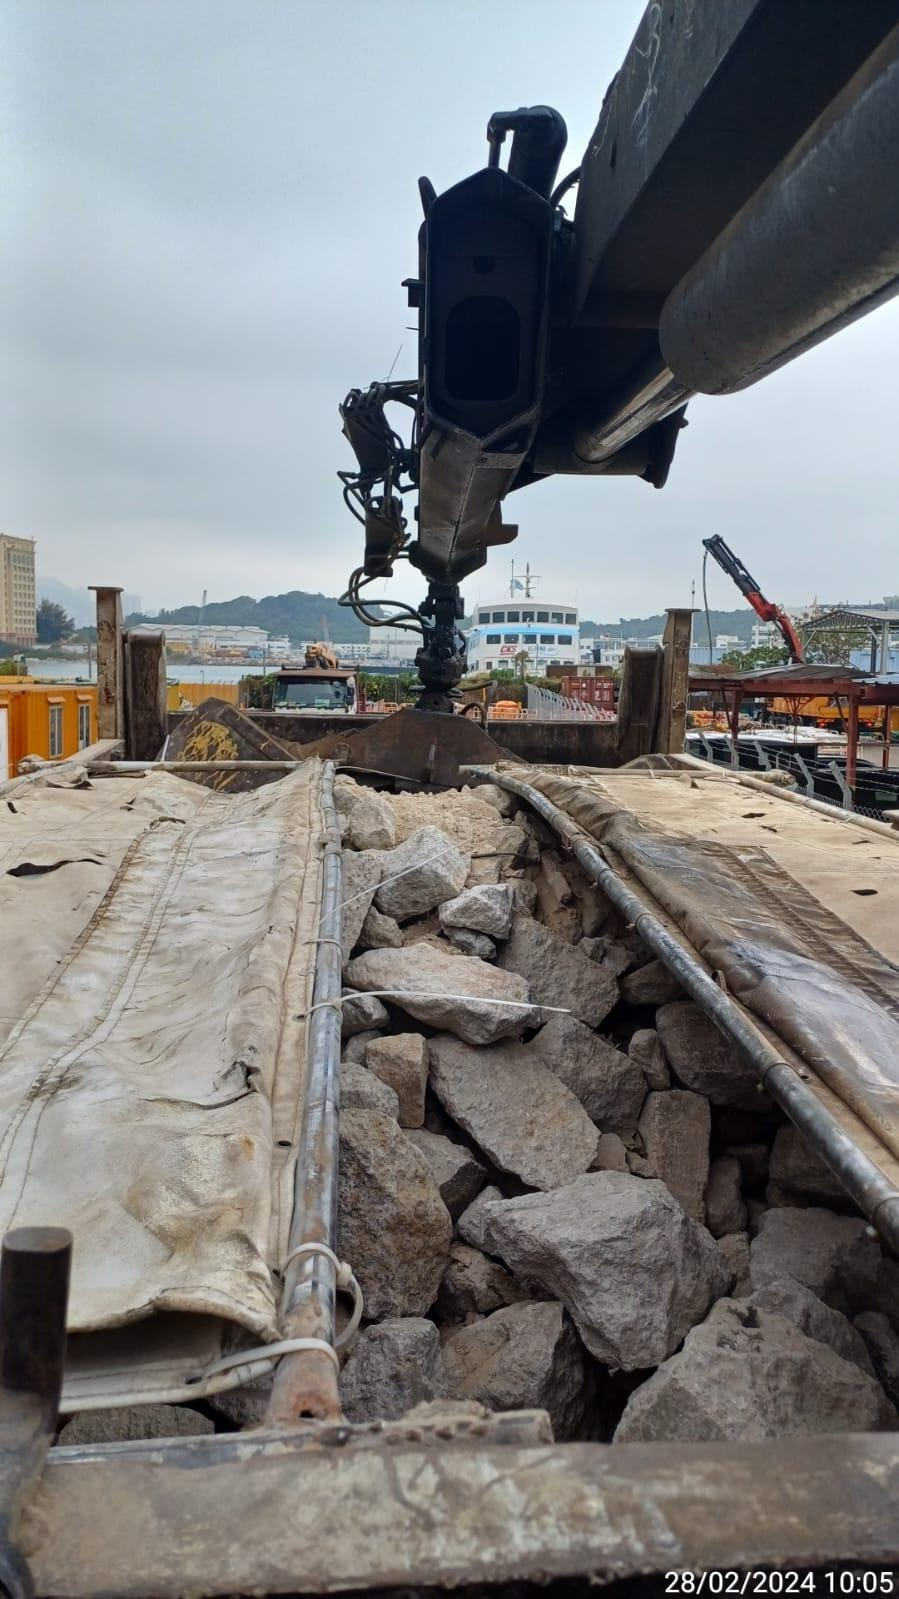dry: (358, 793, 895, 1422)
